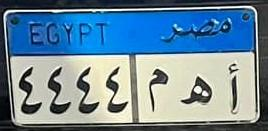4: (102, 61, 129, 118), (16, 64, 43, 117), (74, 63, 101, 115), (46, 67, 72, 118)
alif: (221, 62, 245, 113)
haa: (183, 71, 213, 111)
meem: (144, 65, 171, 115)
